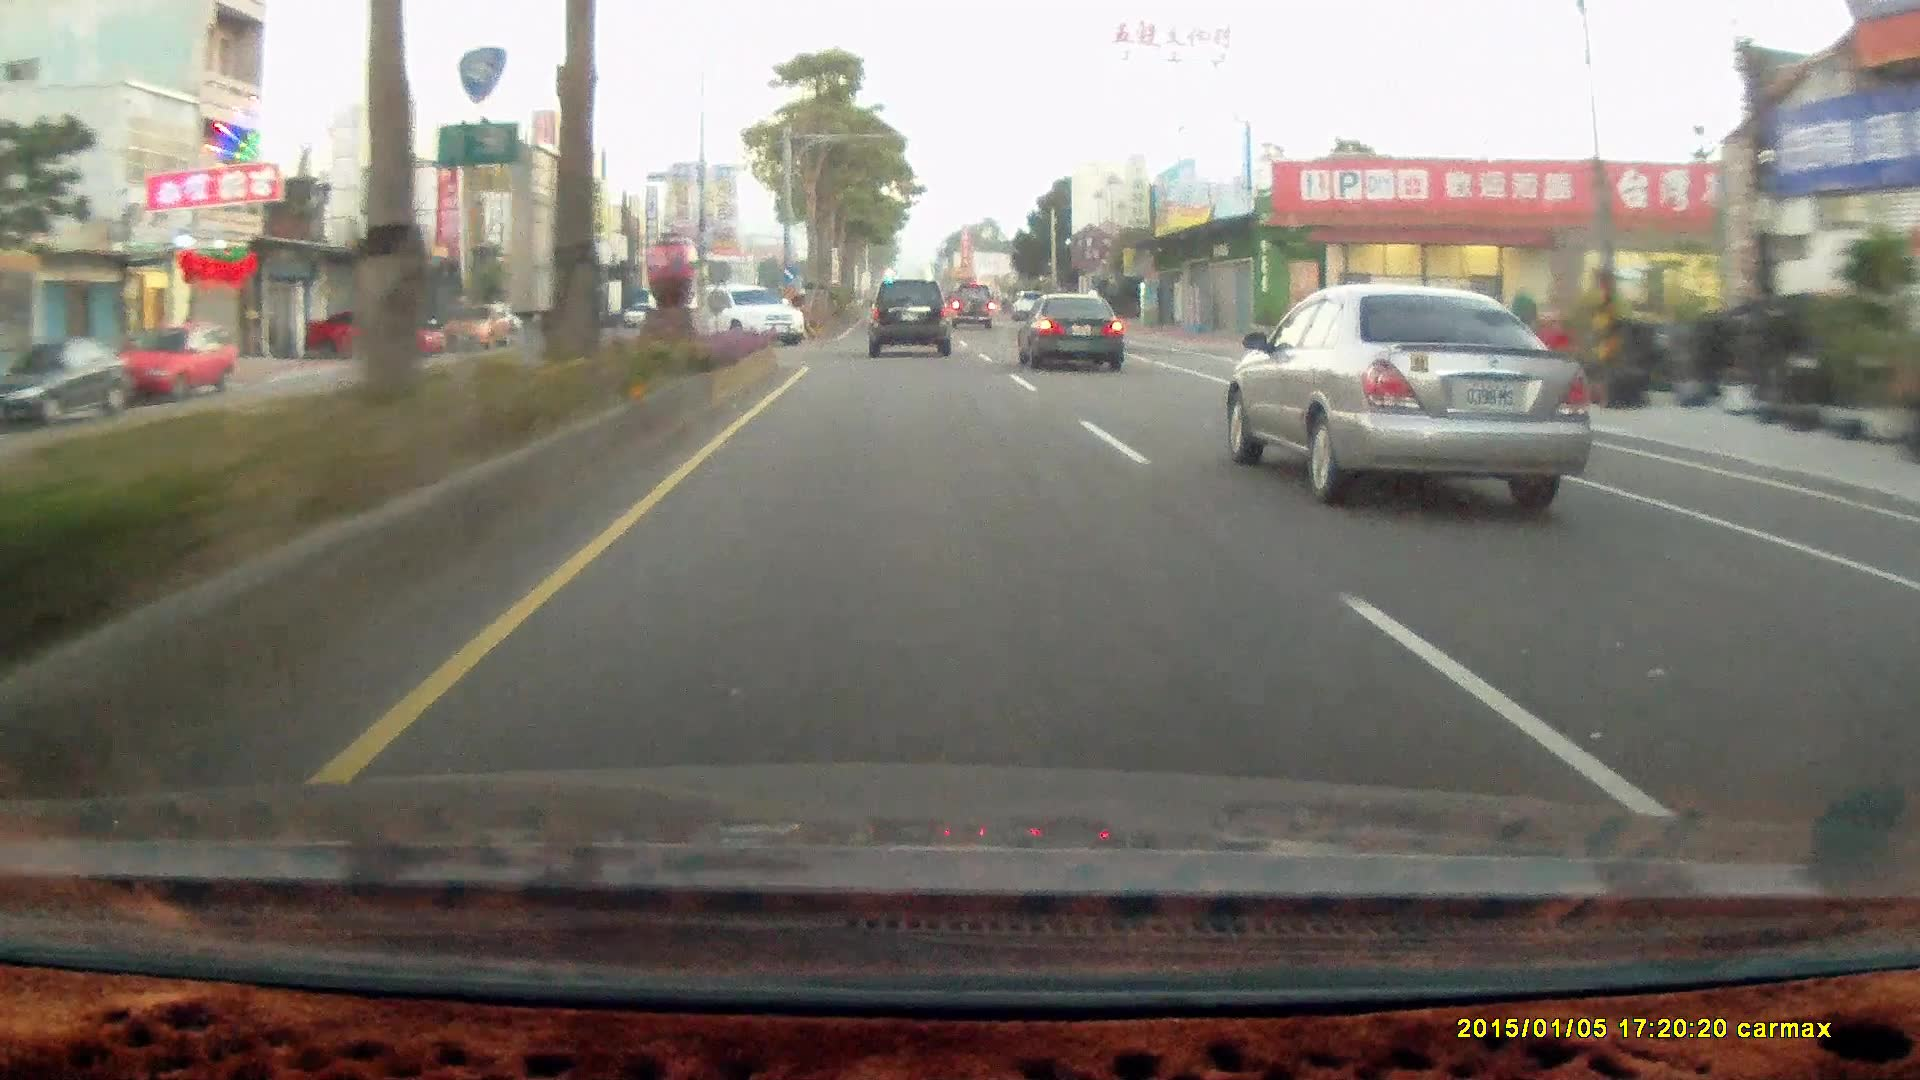vehicle: (1238, 280, 1592, 502), (0, 338, 129, 430), (112, 322, 239, 400), (109, 324, 236, 402), (1013, 287, 1127, 372), (299, 305, 451, 363), (1014, 289, 1122, 368), (298, 301, 444, 357), (694, 284, 807, 348), (869, 276, 957, 353), (866, 278, 949, 356), (713, 282, 808, 345), (948, 284, 996, 334), (948, 282, 996, 330)
